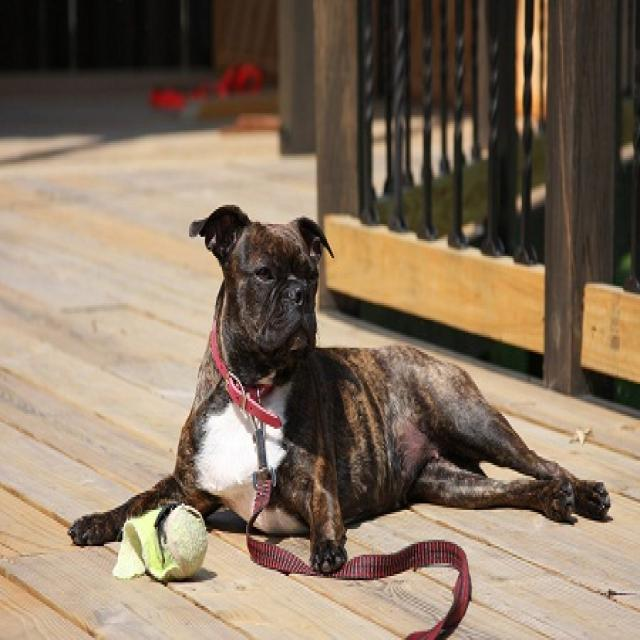dog: (179, 180, 353, 390)
